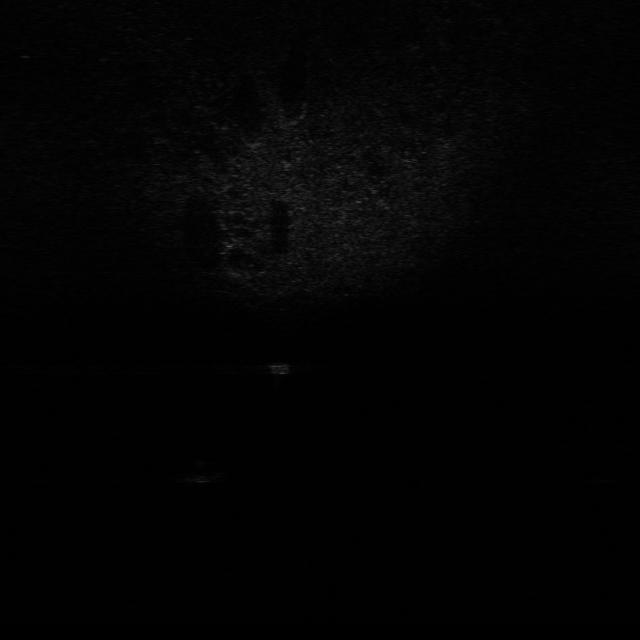ball: (172, 457, 229, 484)
cube: (262, 360, 296, 378)
